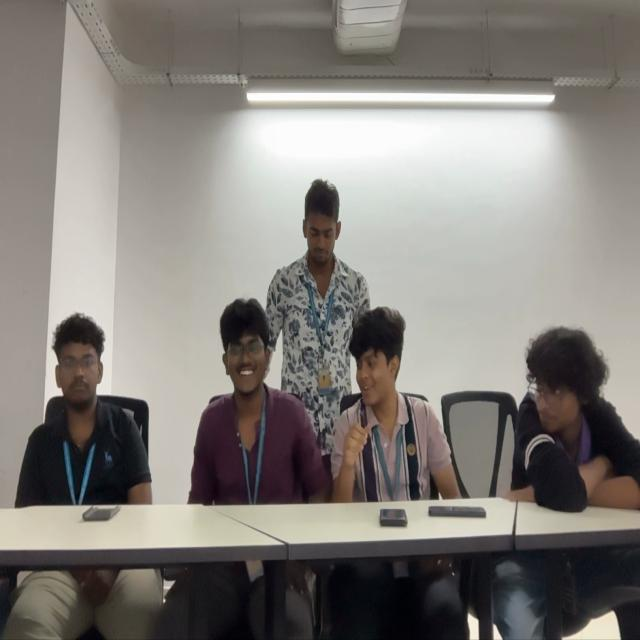Isolated: (13, 314, 151, 502), (506, 318, 640, 511)
socializing: (186, 176, 460, 499)
